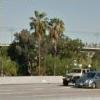Palm tree: (25, 8, 65, 77)
